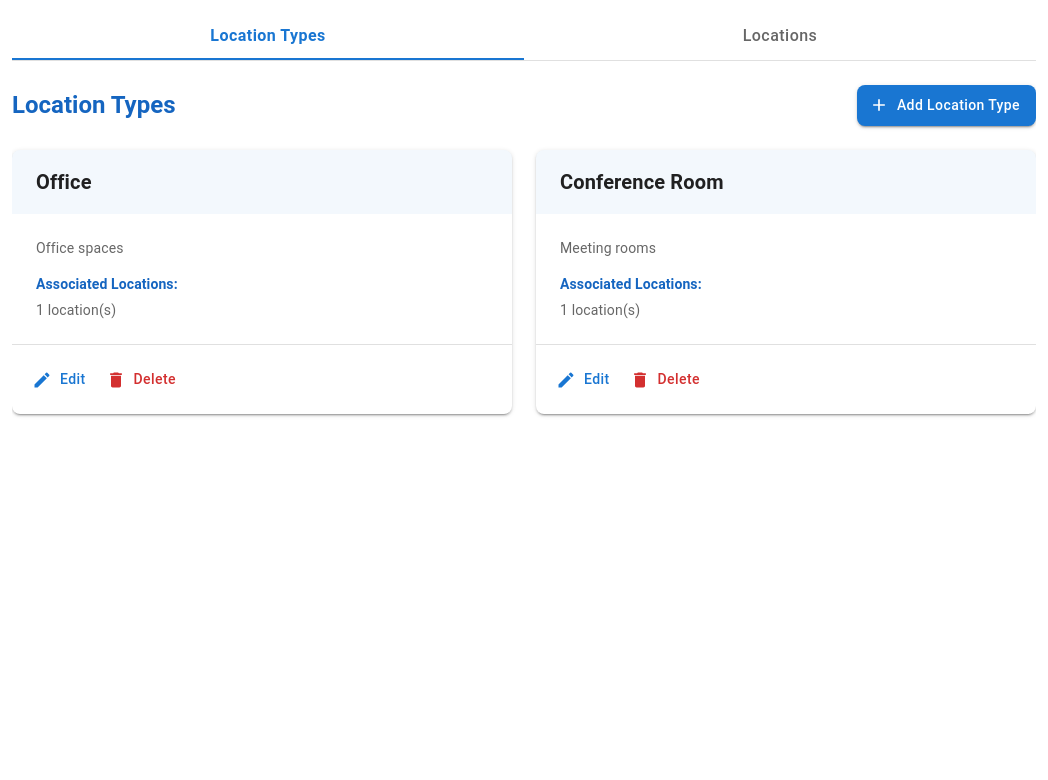
Test: LocationManagement › handles location deletion
# Switch to Locations tab
Click the tab "Locations": coordinates (780, 36) [524, 12, 1036, 60]
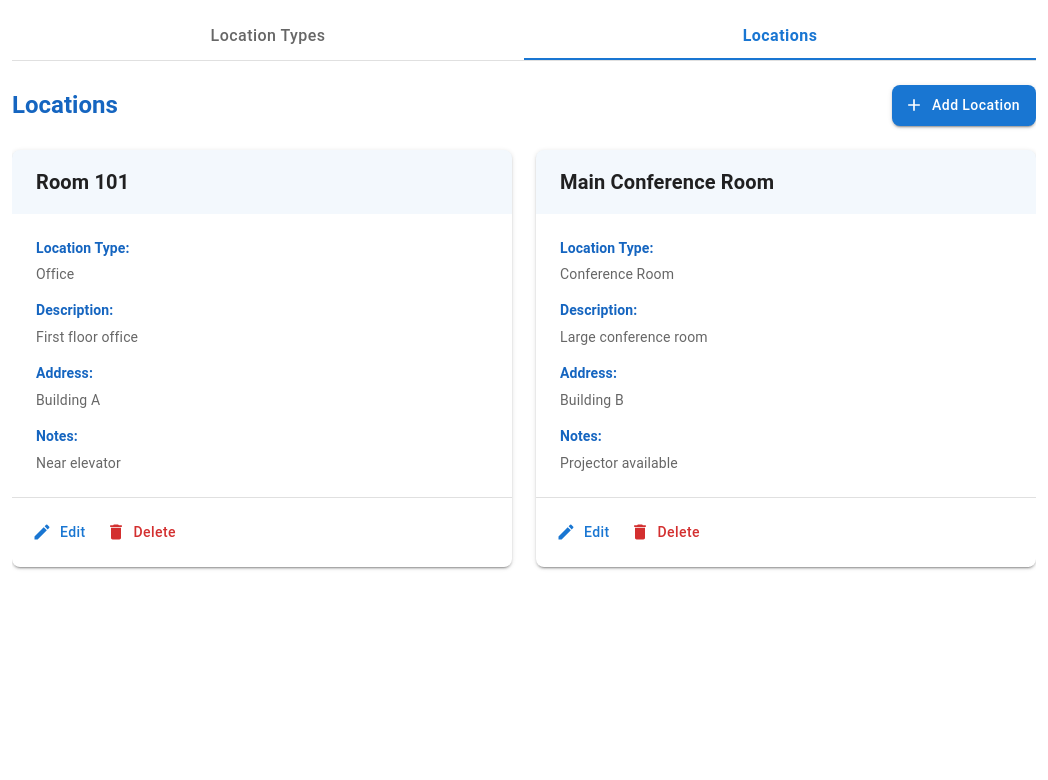
# Find and click delete button
Click the button "Delete" below "Near elevator": coordinates (143, 532) [102, 514, 184, 550]
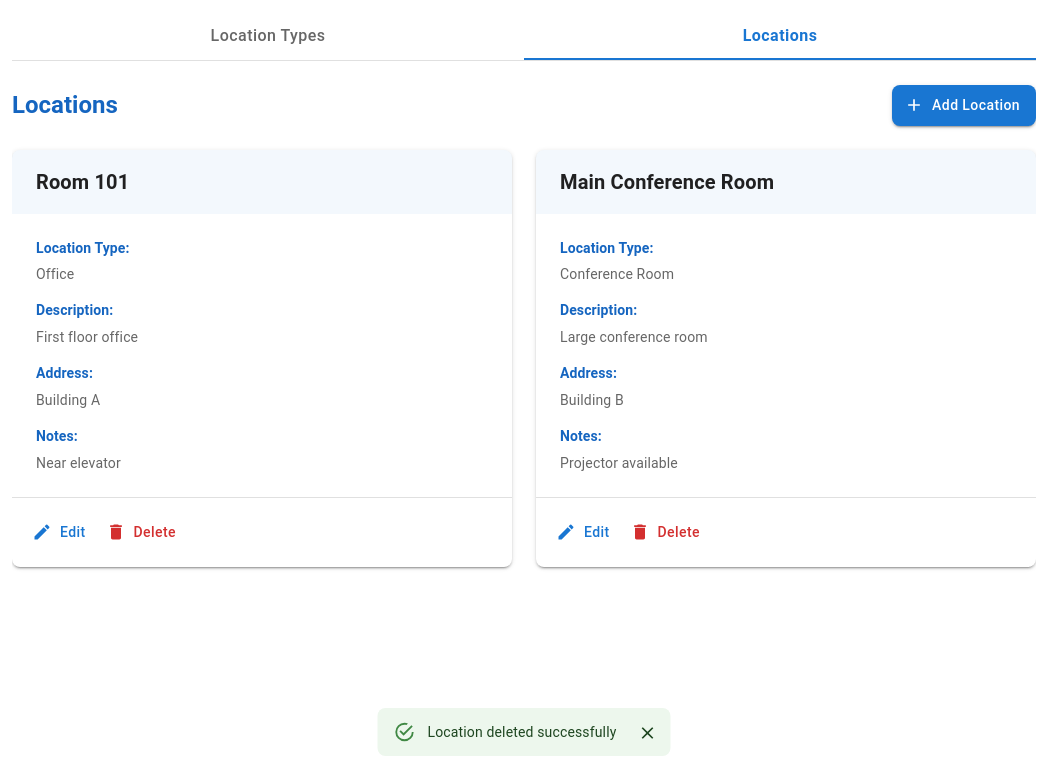
Expected: the text "Location deleted successfully" is shown, [428, 724, 616, 740]
